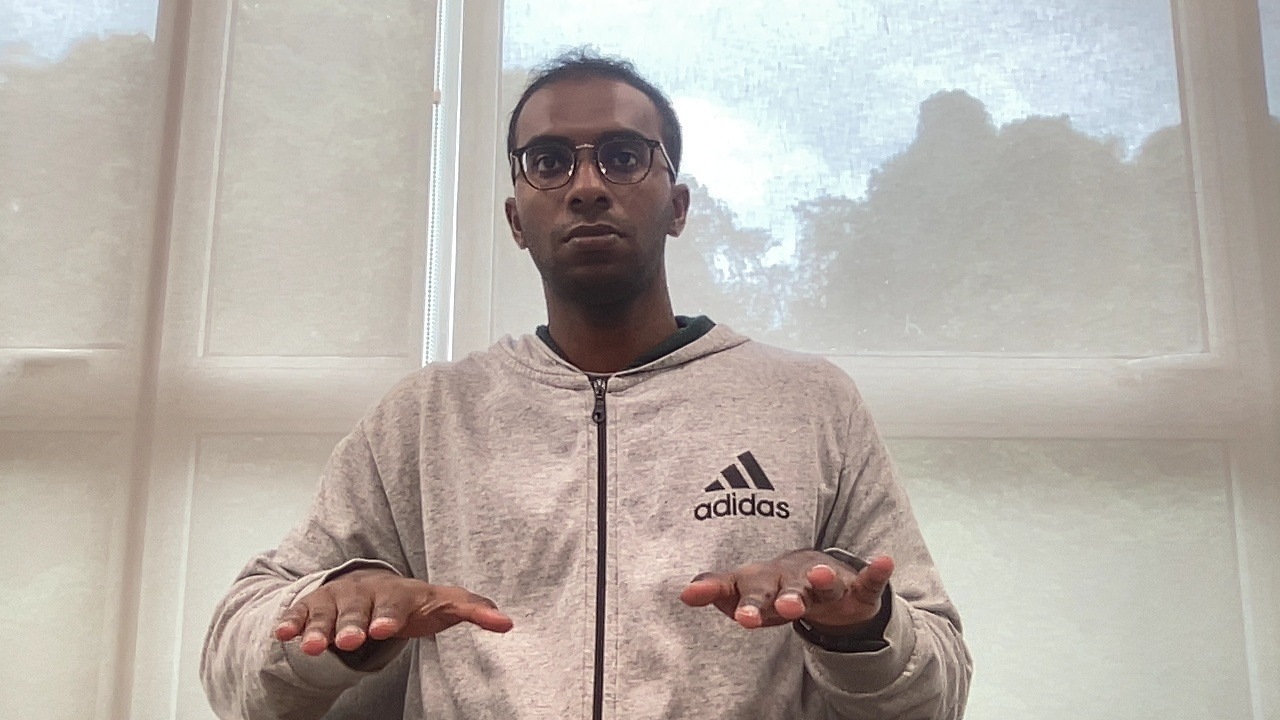finish: (268, 546, 902, 660)
